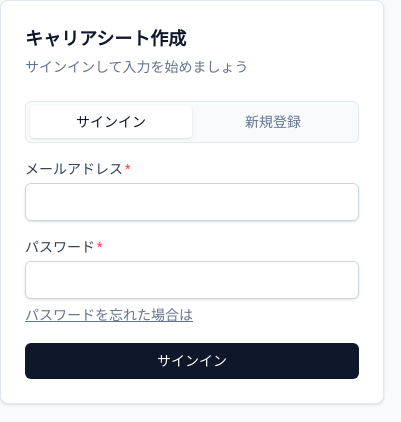
LoginForm › moves to the confirm step after a successful sign-up
Click the button "新規登録".
click(273, 122)  # box [192,106,354,138]
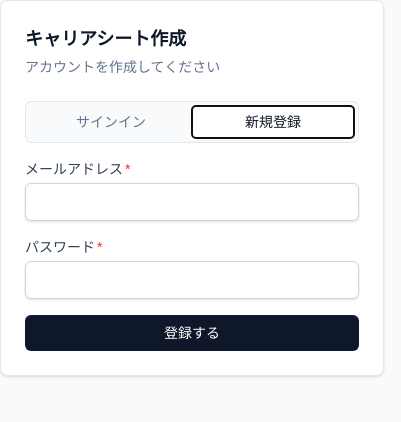
Type "new-user@example.com" into the field labelled "メールアドレス".
click(192, 202); type("new-user@example.com")  # box [25,183,359,221]
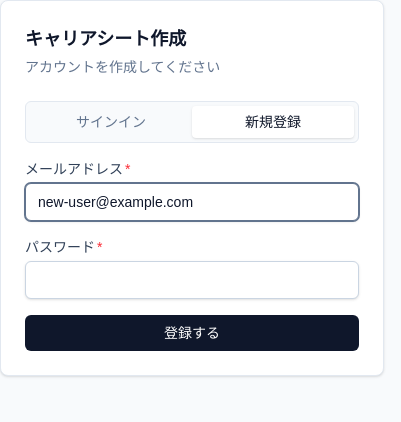
Type "password123" into the password field labelled "パスワード".
click(192, 280); type("password123")  # box [25,261,359,299]
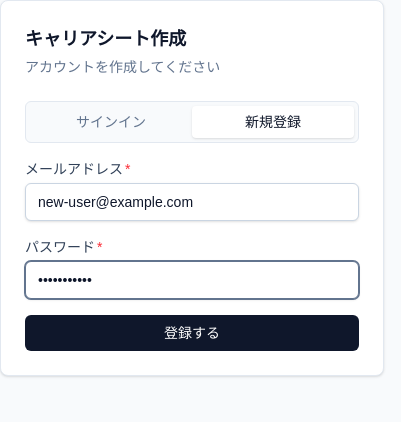
Click the button "登録する".
click(192, 333)  # box [25,315,359,351]
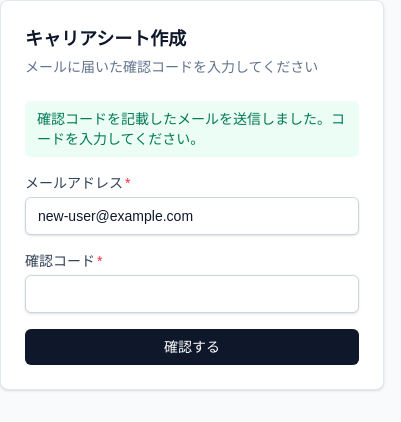
Result: the field labelled "確認コード" is shown at [25,275,359,313]
